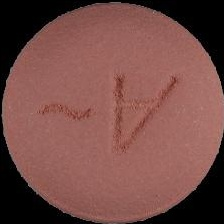49999-764: (0, 0, 224, 224)
